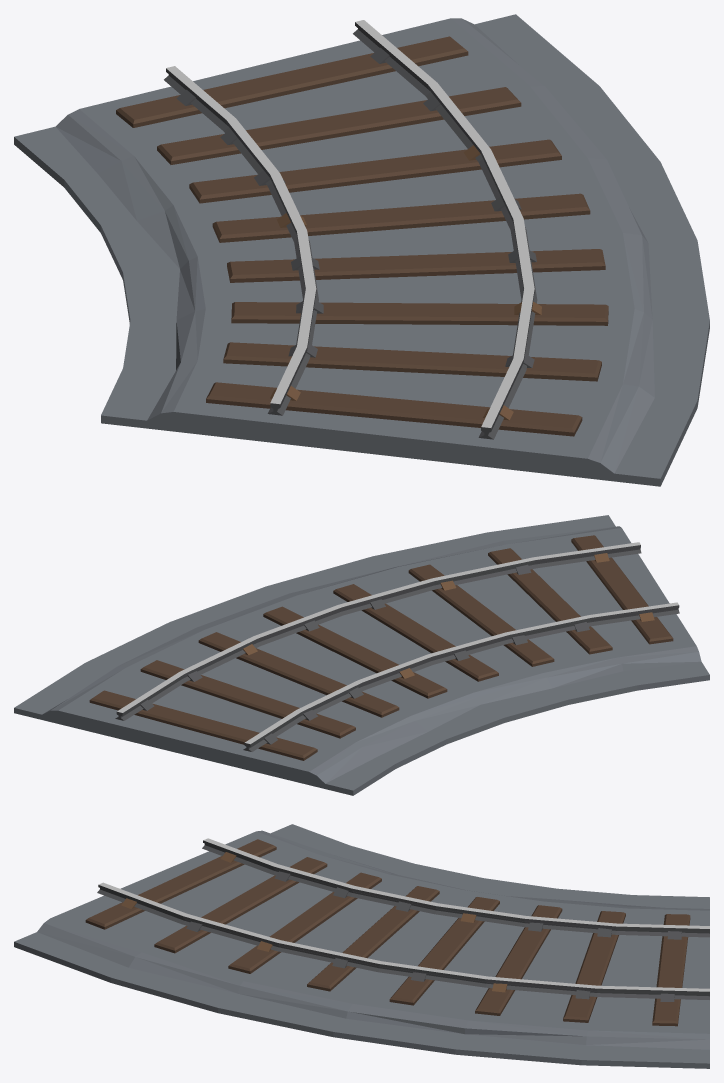
File: curved-track-819ec6.glb
3 renders of one model, top to bottom at view 1: azimuth 30°, elevation 25°; view 2: azimuth 150°, elevation 25°; view 3: azimuth 270°, elevation 25°, orthographic. The views are drawn at different scales.
Parts seen in each view (by area): view 1: curved-track-body; view 2: curved-track-body; view 3: curved-track-body.
Part boxes in pixels (x1,y1,x2,y2): curved-track-body: (14,14,709,486); curved-track-body: (14,515,709,795); curved-track-body: (14,824,709,1068).
Size of the model in its own units: 5.76 by 0.3 by 7.07.
